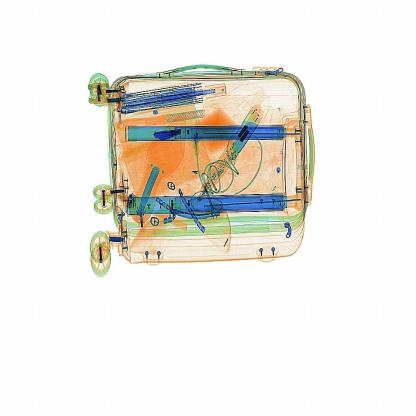knife: (150, 122, 190, 148)
